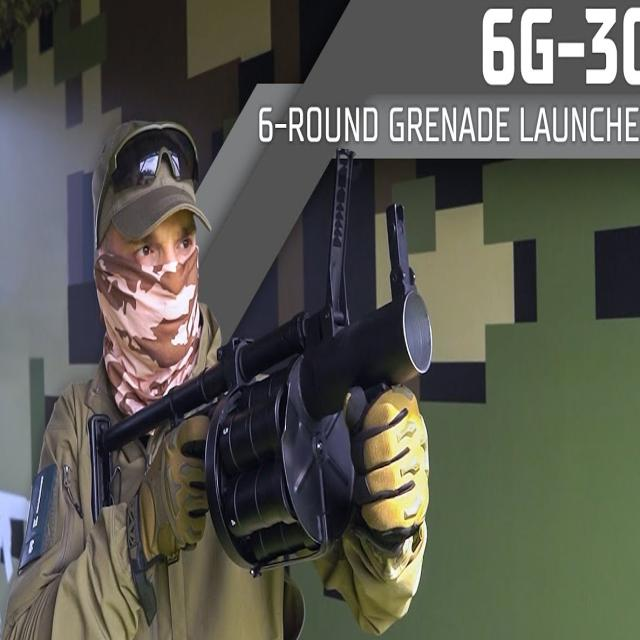Weapon: (89, 149, 432, 577)
